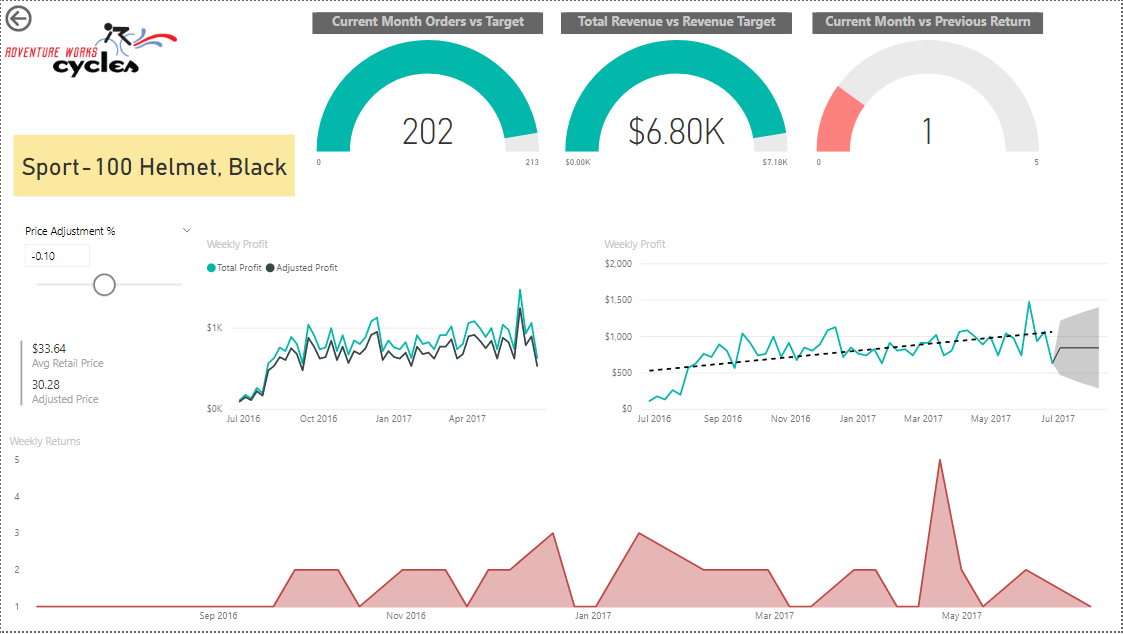

This screenshot's page, from the dashboard's own definition file:
{"tool":"powerbi","page":{"name":"Product Detail","canvas":[1280,720],"ordinal":1},"visuals":[{"type":"lineChart","title":"Weekly Profit","fields":{"Y":["AW_Sales.Total Profit"],"Category":["AW_Calendar_Lookup.Start of Week"]},"box":[684.3,270,595.7,224.3],"z":0},{"type":"image","box":[0,0,208,112],"z":1000},{"type":"areaChart","title":"Weekly Returns","fields":{"Category":["AW_Calendar_Lookup.Start of Week"],"Y":["AW_Returns.Total Returns"]},"box":[4.3,494.3,1270,225.7],"z":2000},{"type":"gauge","title":"Current Month Orders vs Target","fields":{"Y":["AW_Sales.Total Orders"],"MaxValue":["AW_Sales.Order Target"]},"box":[355.7,12.9,264.3,191.4],"z":3000},{"type":"gauge","title":"Total Revenue vs Revenue Target","fields":{"Y":["AW_Sales.Total Revenue"],"MaxValue":["AW_Sales.Revenue Target"]},"box":[640,12.9,264.3,191.4],"z":4000},{"type":"gauge","title":"Current Month vs Previous Return","fields":{"Y":["AW_Returns.Total Returns"],"MaxValue":["AW_Returns.Prev Month Returns"]},"box":[927.1,12.9,264.3,191.4],"z":5000},{"type":"card","fields":{"Values":["Min(AW_Product_Lookup.ProductName)"]},"box":[14.3,152.9,321.4,70],"z":6000},{"type":"actionButton","box":[0,0,100,40],"z":7000},{"type":"slicer","fields":{"Values":["Price Adjustment %.Price Adjustment %"]},"box":[14.3,250,215.7,110],"z":8000},{"type":"multiRowCard","fields":{"Values":["AW_Product_Lookup.Avg Retail Price","AW_Product_Lookup.Adjusted Price"]},"box":[17.1,382.9,174.3,90],"z":9000},{"type":"lineChart","title":"Weekly Profit","fields":{"Y":["AW_Sales.Total Profit","AW_Sales.Adjusted Profit"],"Category":["AW_Calendar_Lookup.Start of Week"]},"box":[230,270,410,224.3],"z":10000}]}

Visuals, with their boxes on the page's 1280x720 design canvas (x1, y1, x2, y2). These are canvas units, not pixel positions in the 1123x634 screenshot, which may show the page scaled, cropped or inside an application window:
"Weekly Profit" lineChart: Rect(684, 270, 1280, 494)
image: Rect(0, 0, 208, 112)
"Weekly Returns" areaChart: Rect(4, 494, 1274, 720)
"Current Month Orders vs Target" gauge: Rect(356, 13, 620, 204)
"Total Revenue vs Revenue Target" gauge: Rect(640, 13, 904, 204)
"Current Month vs Previous Return" gauge: Rect(927, 13, 1191, 204)
card - Min(AW_Product_Lookup.ProductName): Rect(14, 153, 336, 223)
actionButton: Rect(0, 0, 100, 40)
slicer - Price Adjustment %.Price Adjustment %: Rect(14, 250, 230, 360)
multiRowCard - AW_Product_Lookup.Avg Retail Price x AW_Product_Lookup.Adjusted Price: Rect(17, 383, 191, 473)
"Weekly Profit" lineChart: Rect(230, 270, 640, 494)
